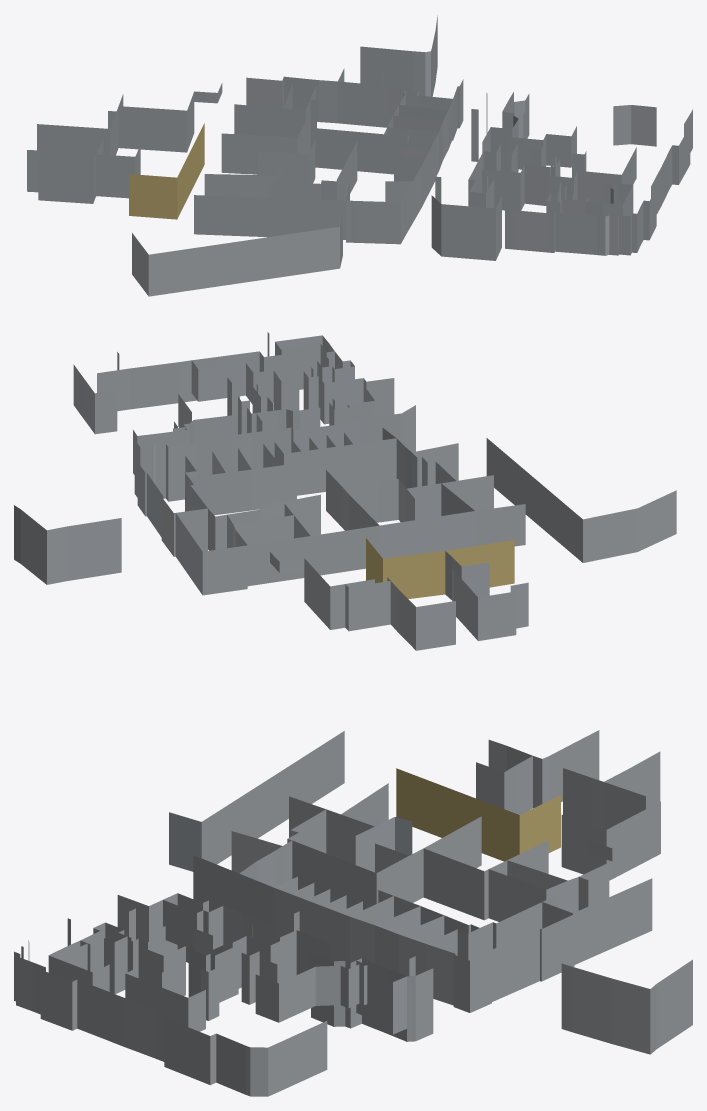
3 views of the same model, one above another, from view 1: azimuth 30°, elevation 25°; view 2: azimuth 150°, elevation 25°; view 3: azimuth 270°, elevation 25° (orthographic). The views are drawn at different scales.
Size of the model in its own units: 193 by 16.02 by 150.
